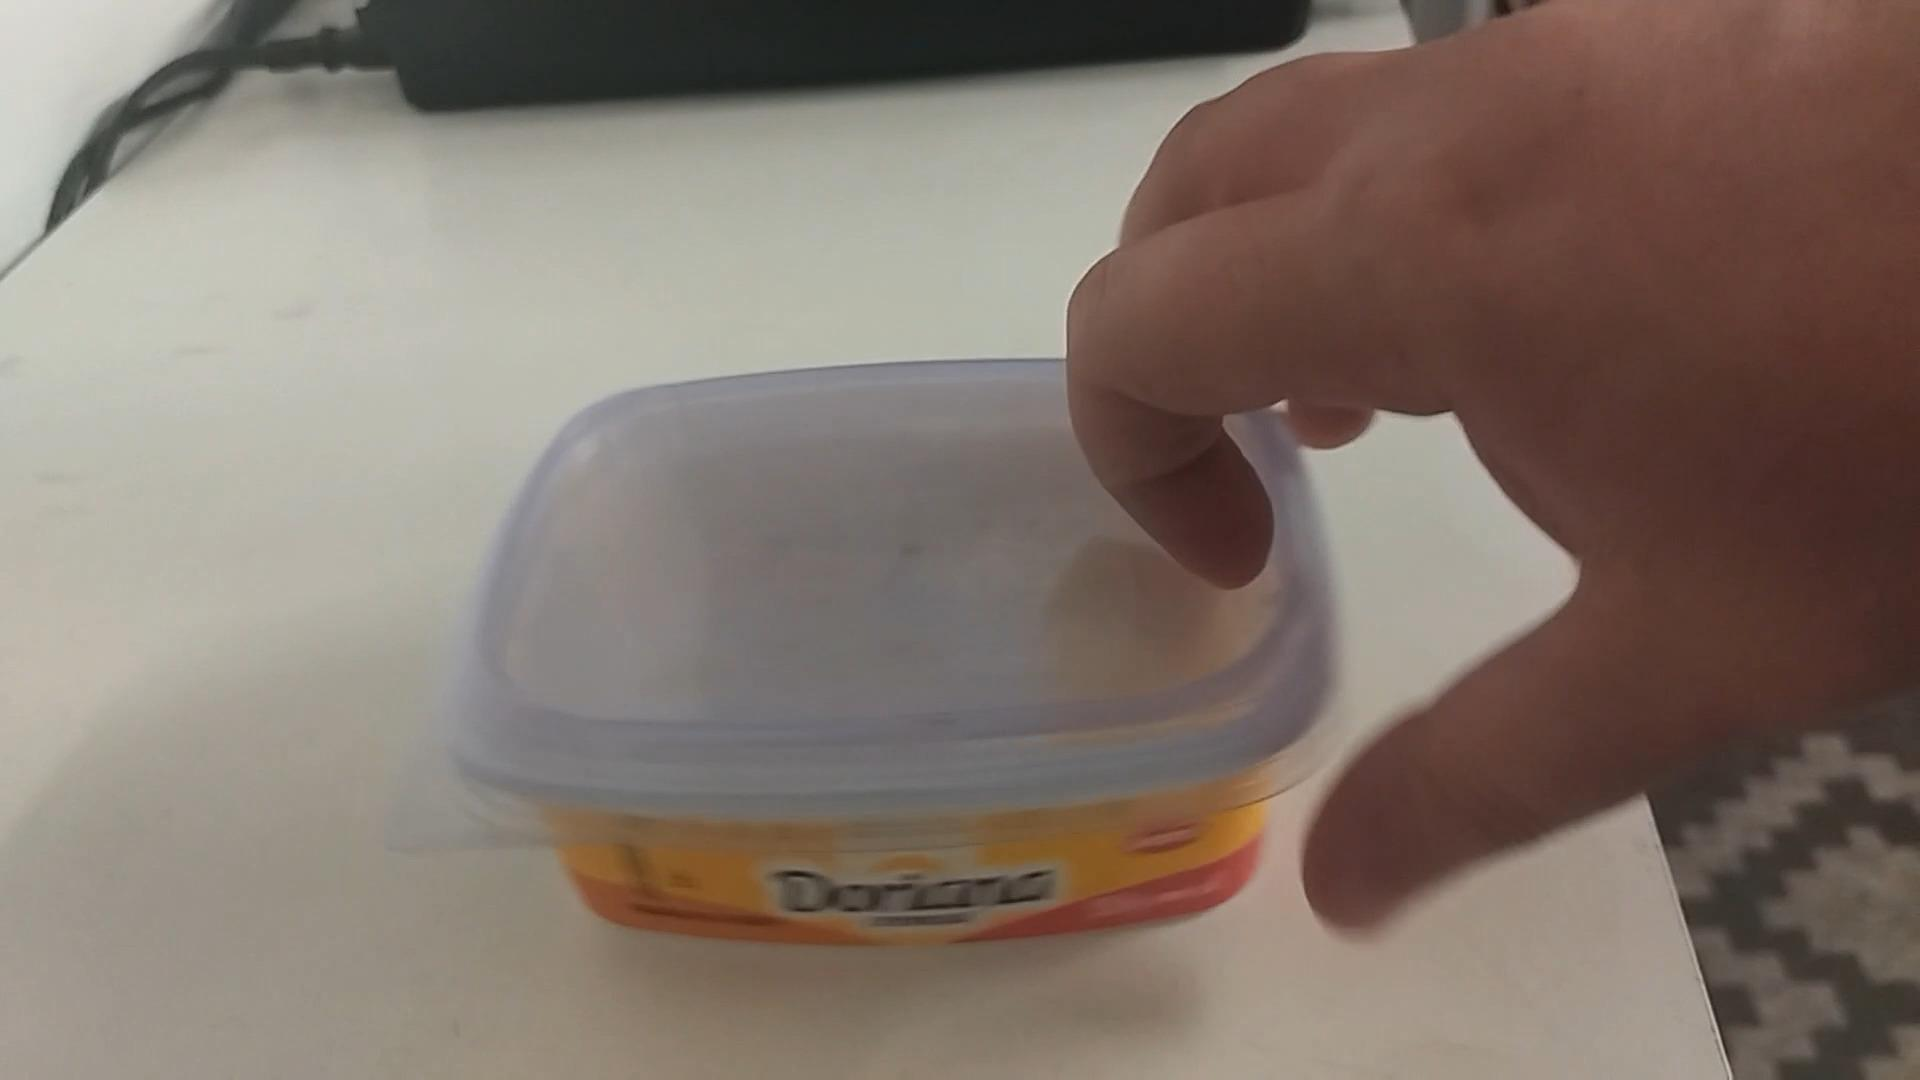butter: (430, 363, 1342, 951)
